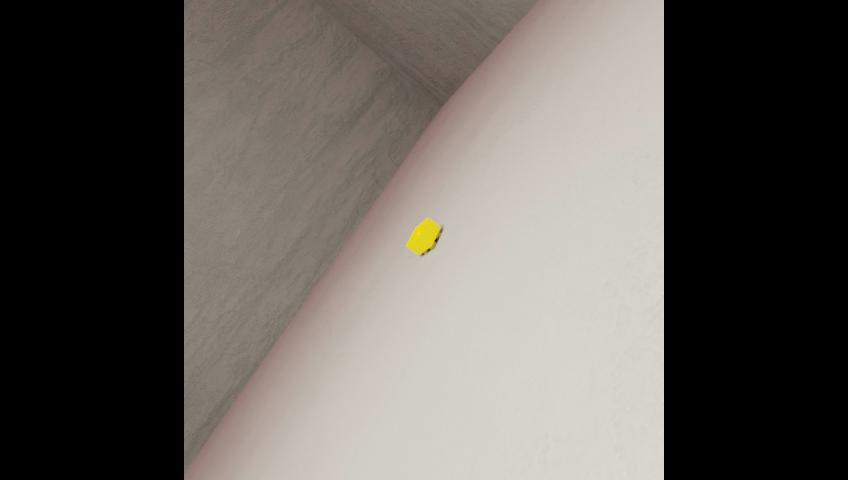2x2_yellow: (405, 218, 440, 255)
